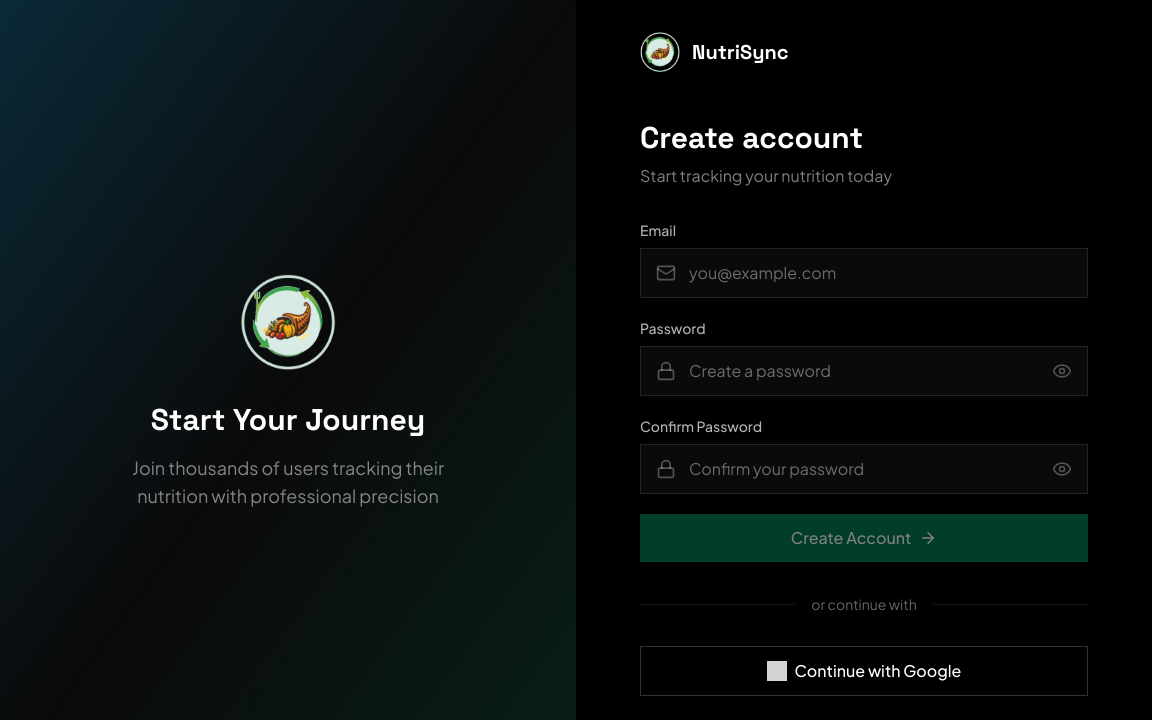
it: Register › handles Google OAuth error
Click the button "Continue with Google".
click(864, 671)  # box [640,646,1088,696]
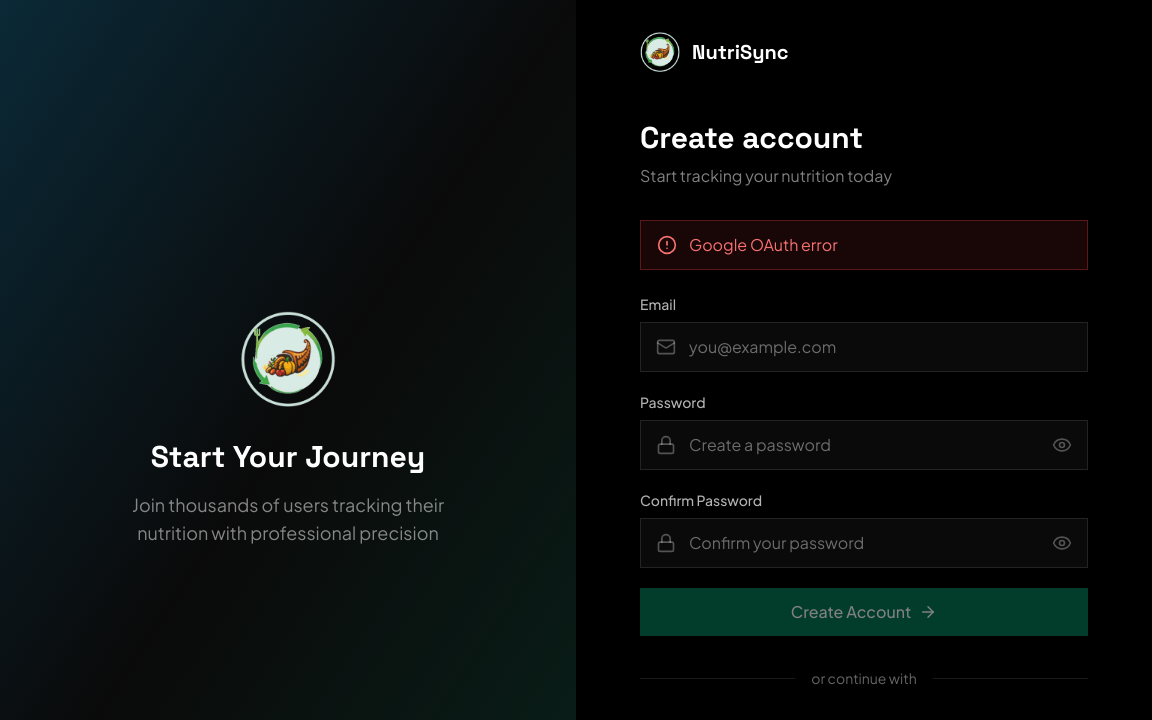
Result: the text "Google OAuth error" is shown at [689,234,838,255]
